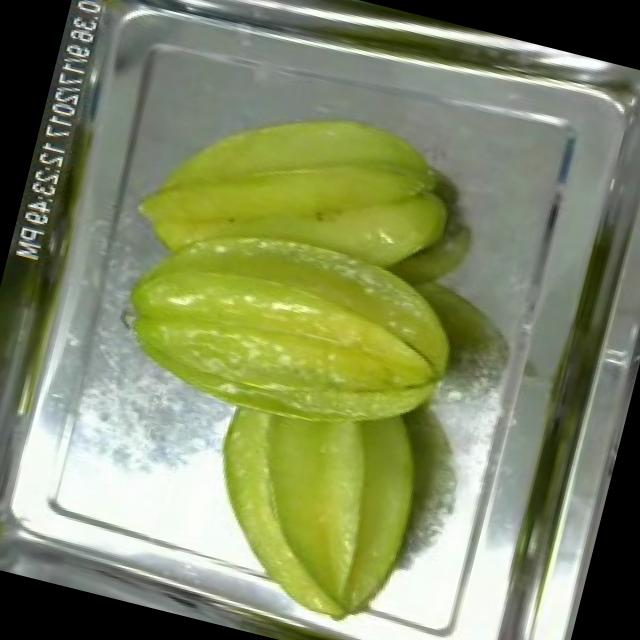fruit: (79, 55, 518, 496), (173, 338, 455, 640), (0, 229, 99, 450)
